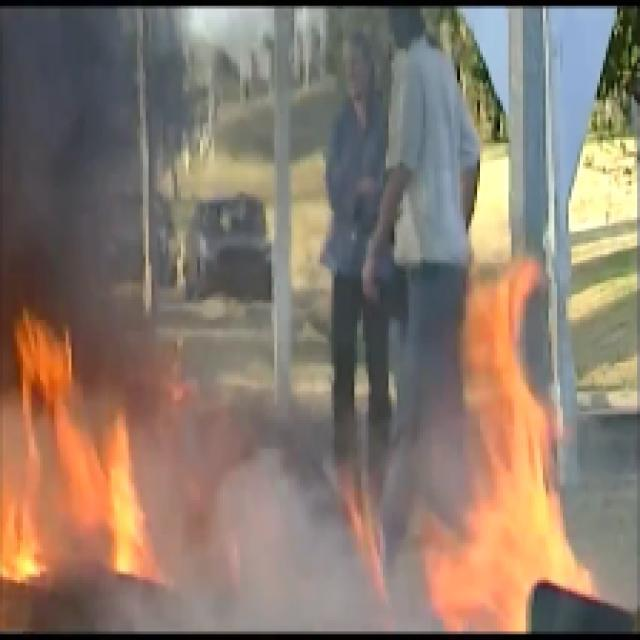Fire: (425, 259, 640, 634), (0, 283, 203, 606)
Smoke: (160, 337, 437, 629)
